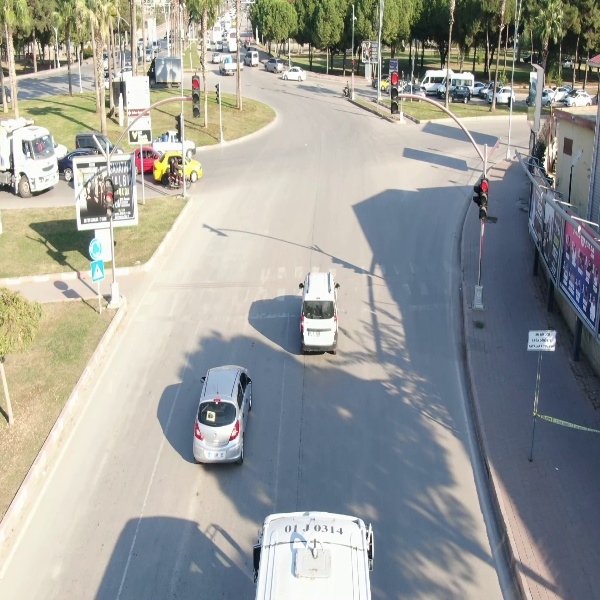car: (189, 361, 255, 467), (296, 269, 343, 354), (487, 85, 519, 105), (445, 82, 472, 105), (561, 91, 594, 108), (280, 65, 307, 83), (263, 56, 284, 75), (243, 49, 262, 68)
